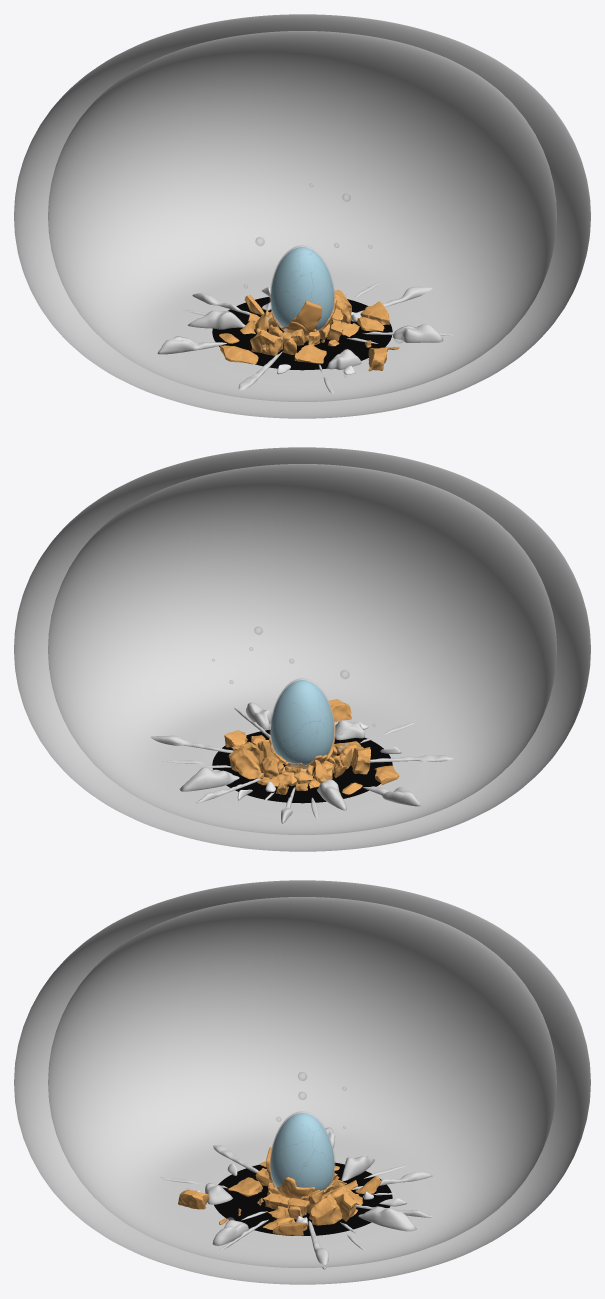
The model's file is PXLs_egg347.glb.
3 renders of one model, top to bottom at view 1: azimuth 30°, elevation 25°; view 2: azimuth 150°, elevation 25°; view 3: azimuth 270°, elevation 25°, orthographic.
Visible parts, largest first — view 1: innerCylinder, outerCylinder, rockDebris, smoke4, smoke3, floorBase, brokenEggCrust, pinkGooBlob7, pinkGooBlob5, pinkGooStreak13; view 2: innerCylinder, outerCylinder, rockDebris, smoke4, smoke3, floorBase, crackedEgg.011, crackedEgg.008, pinkGooBlob8, pinkGooStreak13, pinkGooBlob7; view 3: innerCylinder, outerCylinder, rockDebris, smoke4, smoke3, floorBase, pinkGooBlob8, crackedEgg.012, brokenEggCrust, crackedEgg.013, pinkGooBlob5, pinkGooBlob7.
Boxes of the visible parts, x1,y1,x2,y2 form: innerCylinder: [48, 31, 556, 401]; outerCylinder: [14, 14, 590, 418]; rockDebris: [220, 290, 389, 371]; smoke4: [270, 245, 334, 330]; smoke3: [270, 246, 334, 330]; floorBase: [212, 297, 392, 370]; brokenEggCrust: [272, 297, 337, 335]; pinkGooBlob7: [187, 310, 245, 329]; pinkGooBlob5: [393, 324, 443, 342]; pinkGooStreak13: [157, 336, 226, 354]; innerCylinder: [48, 464, 556, 834]; outerCylinder: [14, 447, 590, 851]; rockDebris: [224, 699, 399, 794]; smoke4: [270, 678, 334, 768]; smoke3: [270, 679, 334, 768]; floorBase: [212, 729, 392, 803]; crackedEgg.011: [274, 694, 309, 739]; crackedEgg.008: [283, 680, 320, 721]; pinkGooBlob8: [179, 767, 239, 791]; pinkGooStreak13: [363, 786, 420, 806]; pinkGooBlob7: [317, 779, 346, 810]; innerCylinder: [48, 897, 556, 1267]; outerCylinder: [14, 880, 590, 1284]; rockDebris: [178, 1161, 381, 1235]; smoke4: [270, 1111, 335, 1190]; smoke3: [270, 1112, 334, 1190]; floorBase: [214, 1162, 392, 1235]; pinkGooBlob8: [358, 1206, 416, 1231]; crackedEgg.012: [281, 1141, 314, 1179]; brokenEggCrust: [266, 1147, 333, 1198]; crackedEgg.013: [280, 1120, 313, 1151]; pinkGooBlob5: [212, 1219, 248, 1245]; pinkGooBlob7: [341, 1156, 374, 1180].
Bounding box in the file's own units: 16.7 × 7.8 × 16.7.
Materials: 8 (2 with a texture image).
